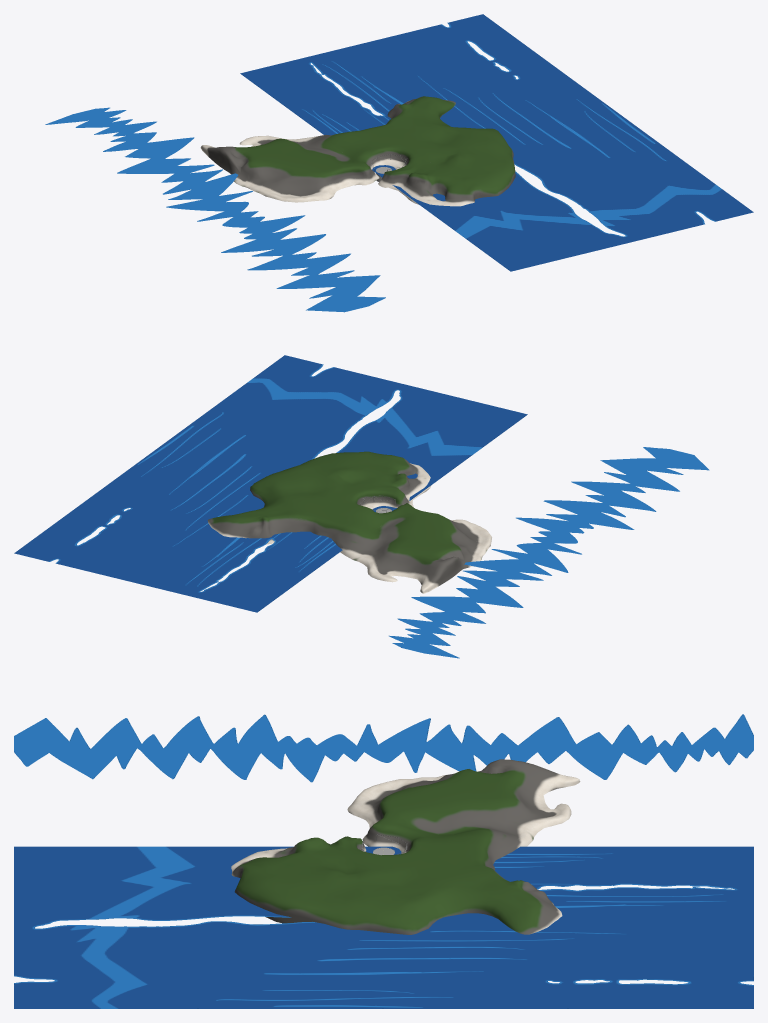
The model's file is CoveIsland_01.fbx.
3 views of the same model, one above another, from view 1: azimuth 30°, elevation 25°; view 2: azimuth 150°, elevation 25°; view 3: azimuth 270°, elevation 25° (orthographic). The views are drawn at different scales.
Parts seen in each view (by area): view 1: IslandWater_01, Island_01; view 2: IslandWater_01, Island_01; view 3: IslandWater_01, Island_01.
Part boxes in pixels (x1,y1,x2,y2): IslandWater_01: (45,14,753,312); Island_01: (200,96,515,206); IslandWater_01: (14,355,709,658); Island_01: (207,451,491,593); IslandWater_01: (14,714,753,1008); Island_01: (231,759,580,934).
Bounding box in the file's own units: 1678942 × 78043 × 1678942.
